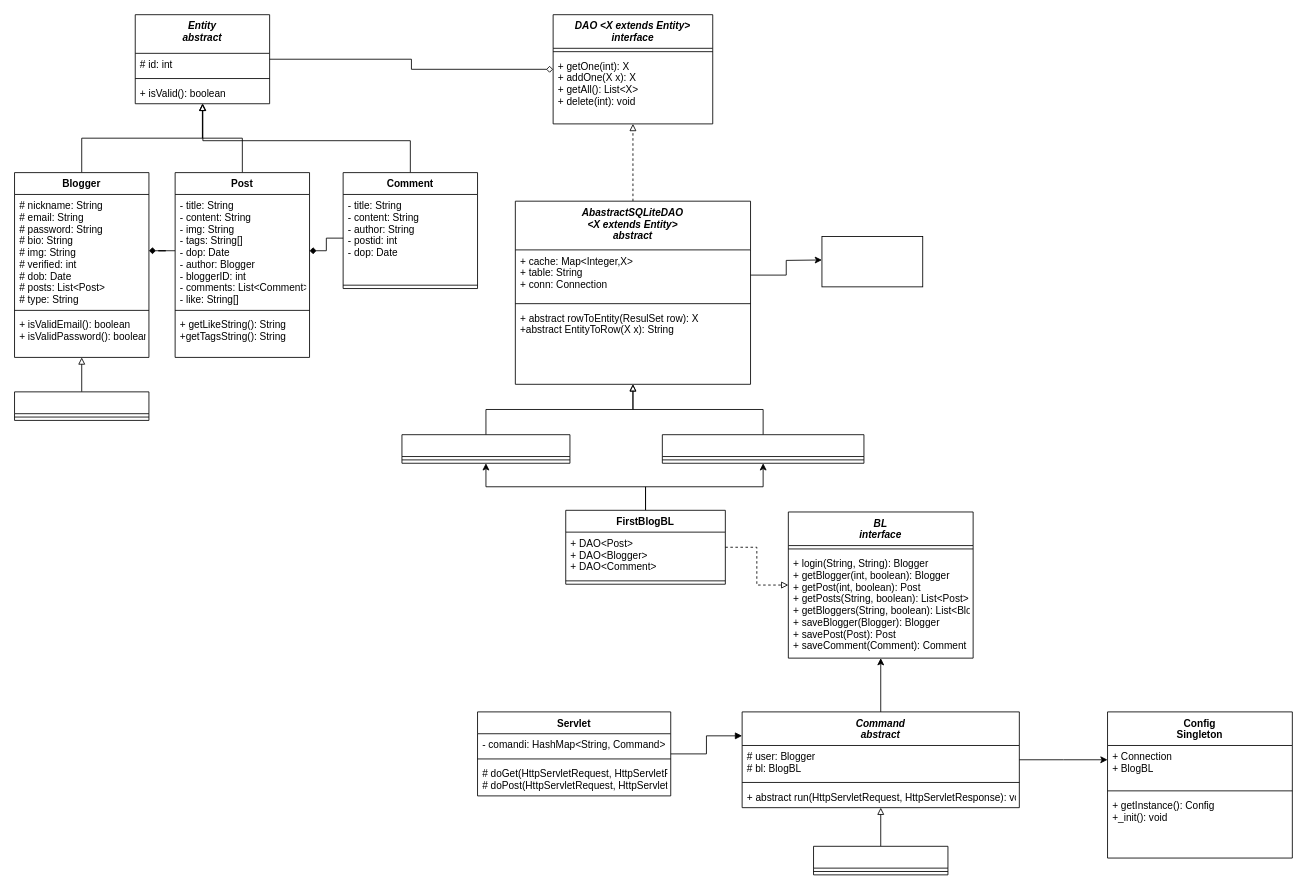
This 1308x890 diagram has some shape labels left out. Here are the shapes that lost their labels. From the top down, the centre of each, then its label:
the point at 872,261: JDBC
the point at 81,405: SuperUser
the point at 485,448: PostDAO
the point at 763,448: BloggerDAO
the point at 880,860: Generic Command
